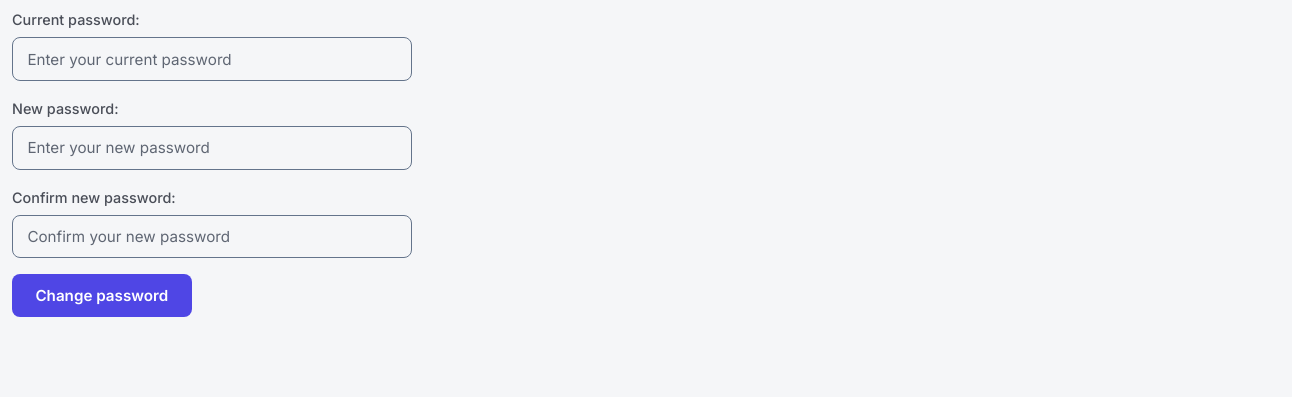
Scenario: ChangePasswordForm › sends the request through the API layer with a JSON content type
The image size is (1292, 397).
Type "wrongpass" into the password field labelled "Current password:".
click(212, 59); type("wrongpass")  # box [12, 37, 412, 81]
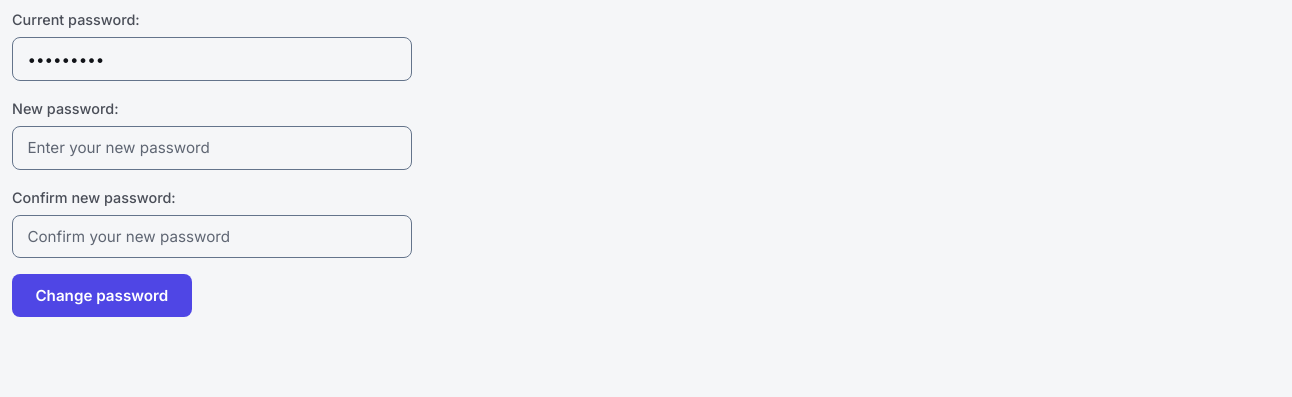
Type "newsecret" into the password field labelled "New password:".
click(212, 148); type("newsecret")  # box [12, 126, 412, 170]
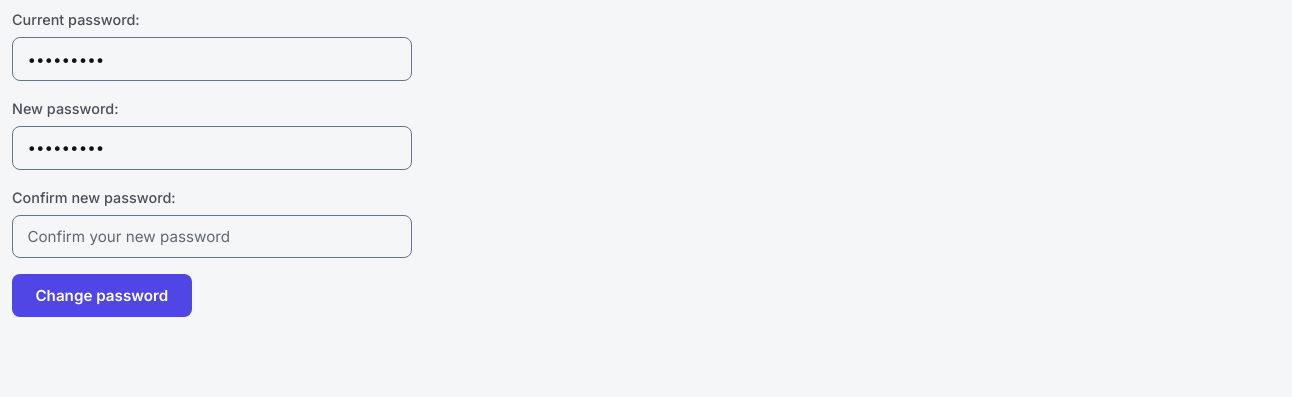
Type "newsecret" into the password field labelled "Confirm new password:".
click(212, 237); type("newsecret")  # box [12, 215, 412, 258]
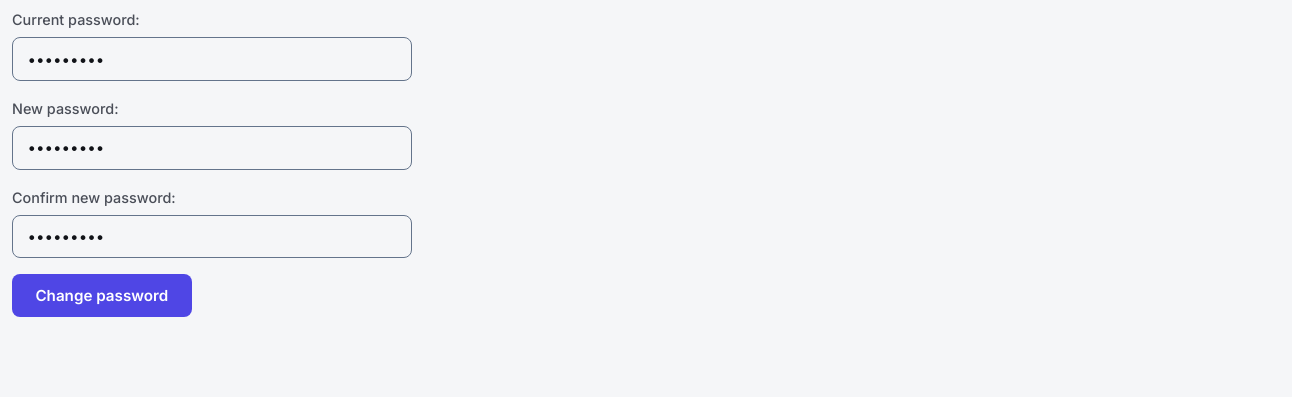
Click the button "Change password".
click(102, 296)  # box [12, 274, 192, 317]
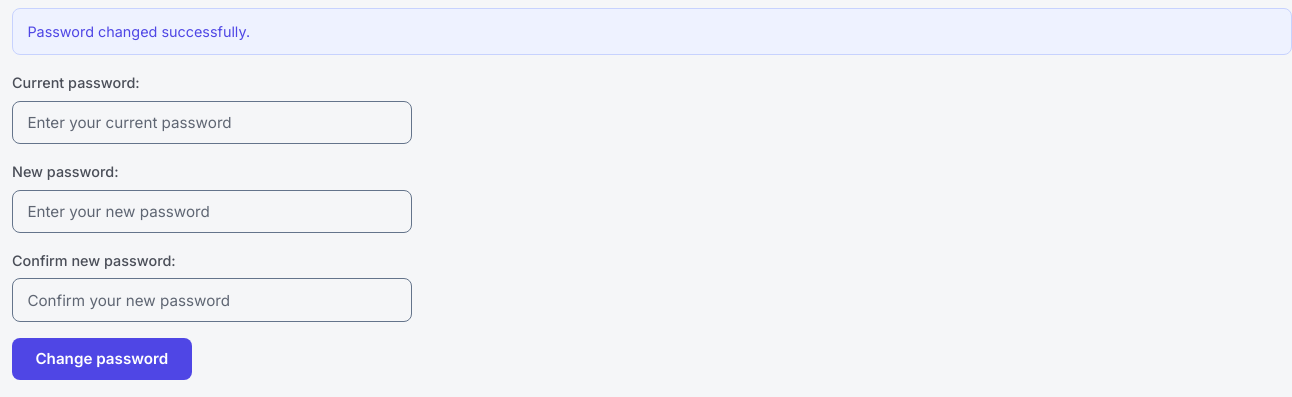
Now the text "Password changed successfully." is shown, box [12, 8, 1291, 55]
